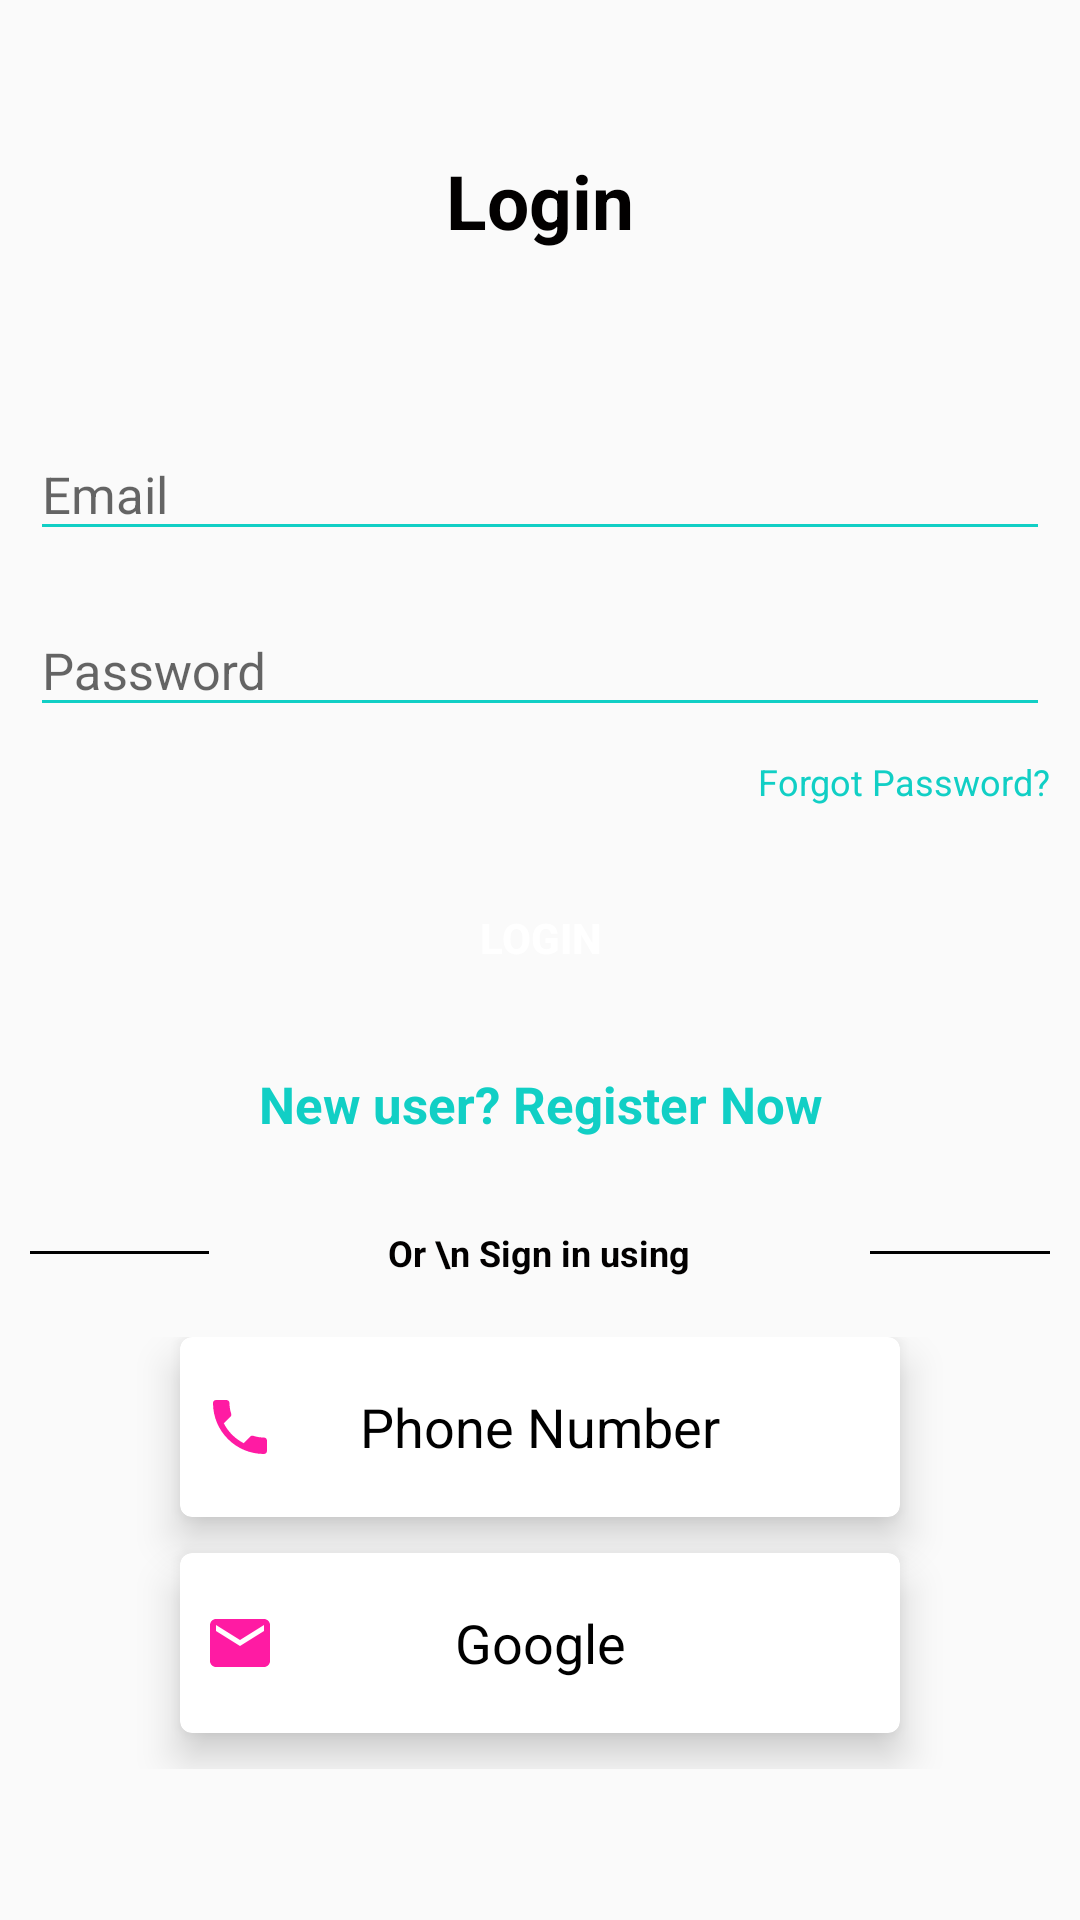

Locate icon controls on the screen. Image size 1080 x 1920, boxes as (x1, y1, x2, y2).
email: (210, 1619, 270, 1667)
